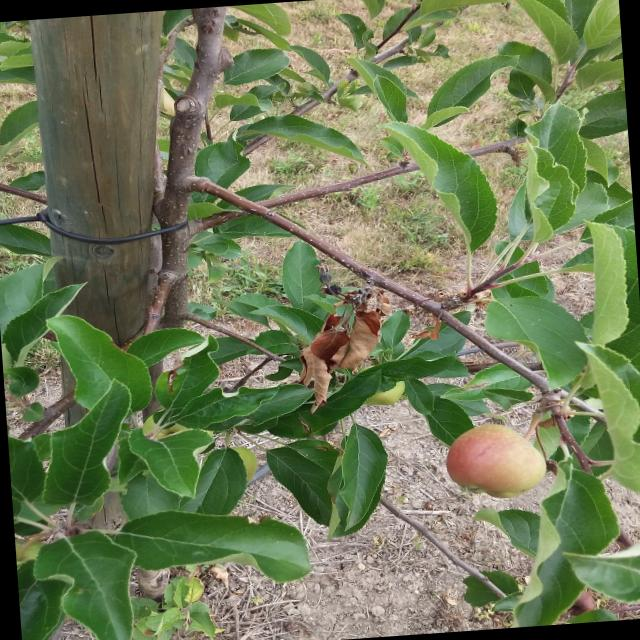-FireBlight-: (301, 312, 375, 402)
